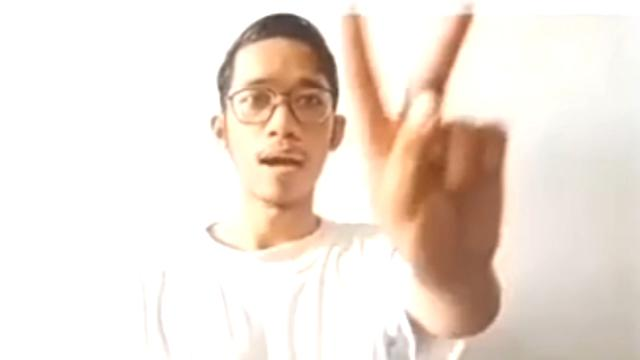K: (334, 0, 518, 294)
